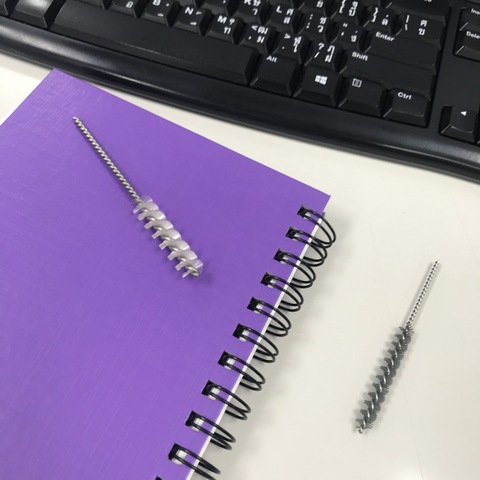Twist Brush-A: (354, 259, 446, 436)
Twist Brush-B: (70, 113, 207, 279)
